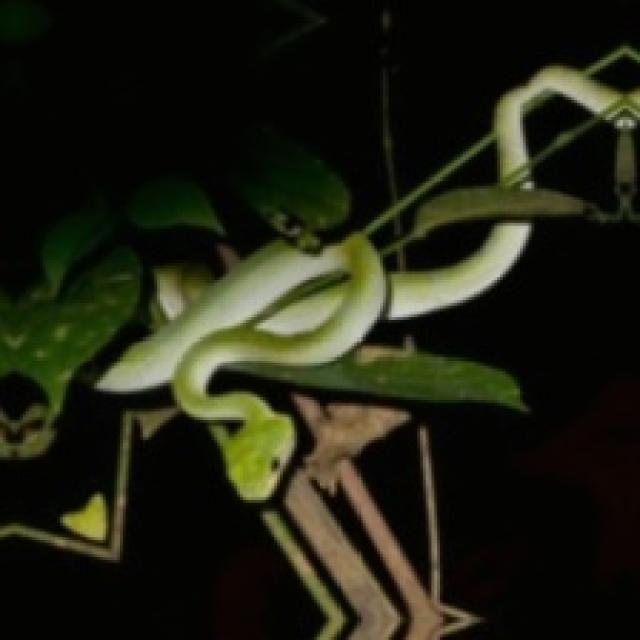north ph temple pitviper: (97, 66, 637, 500)
